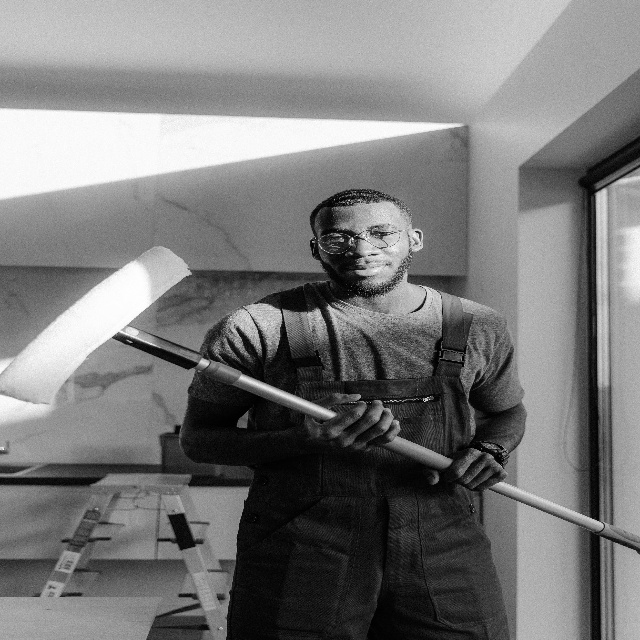Gafas: (312, 225, 412, 255)
Sin_guantes: (303, 393, 400, 455), (421, 447, 508, 492)
